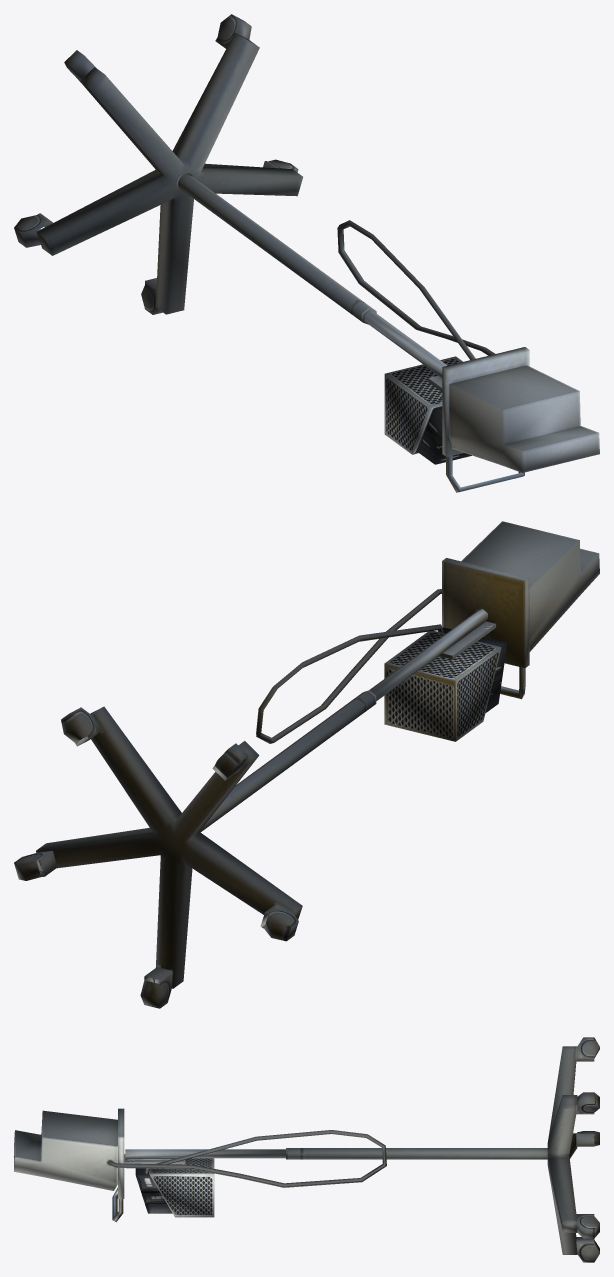
File: BloodPressureMonitor.obj
3 views of the same model, one above another, from view 1: azimuth 30°, elevation 25°; view 2: azimuth 150°, elevation 25°; view 3: azimuth 270°, elevation 25° (orthographic). The views are drawn at different scales.
Parts seen in each view (by area): view 1: BloodPressureMonitor; view 2: BloodPressureMonitor; view 3: BloodPressureMonitor.
Boxes of the visible parts, box(x1,y1,x2,y2) form: BloodPressureMonitor: box(14, 14, 599, 492); BloodPressureMonitor: box(14, 521, 599, 1008); BloodPressureMonitor: box(14, 1037, 599, 1262).
Size of the model in its own units: 0.5709 by 0.5442 by 1.47.
1 material, 1 textured.
